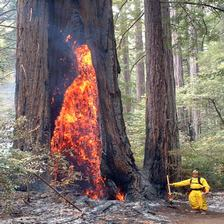fire: (44, 41, 140, 203)
